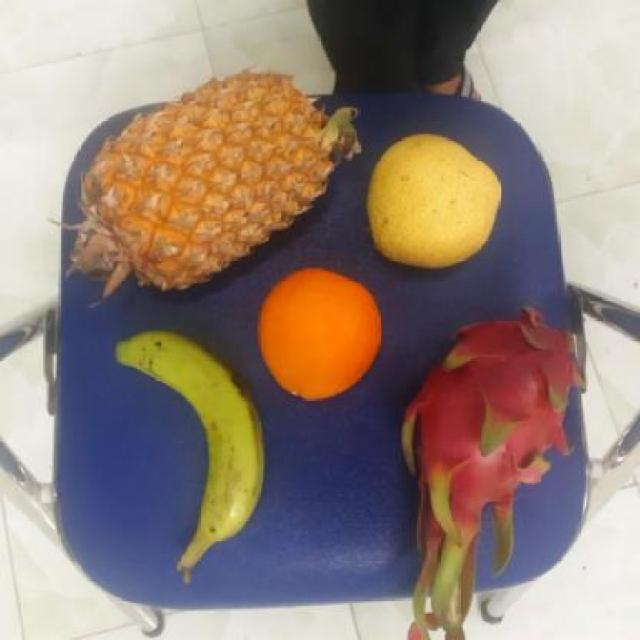banana: (116, 329, 262, 560)
dragon fruit: (389, 305, 583, 574)
oren: (255, 271, 384, 402)
pear: (357, 133, 506, 270)
pineapple: (59, 68, 343, 291)
